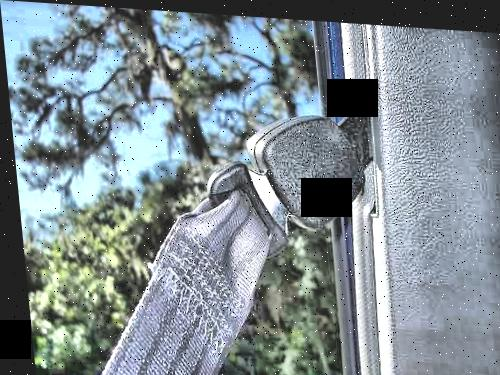seatbelt: (99, 72, 399, 362)
